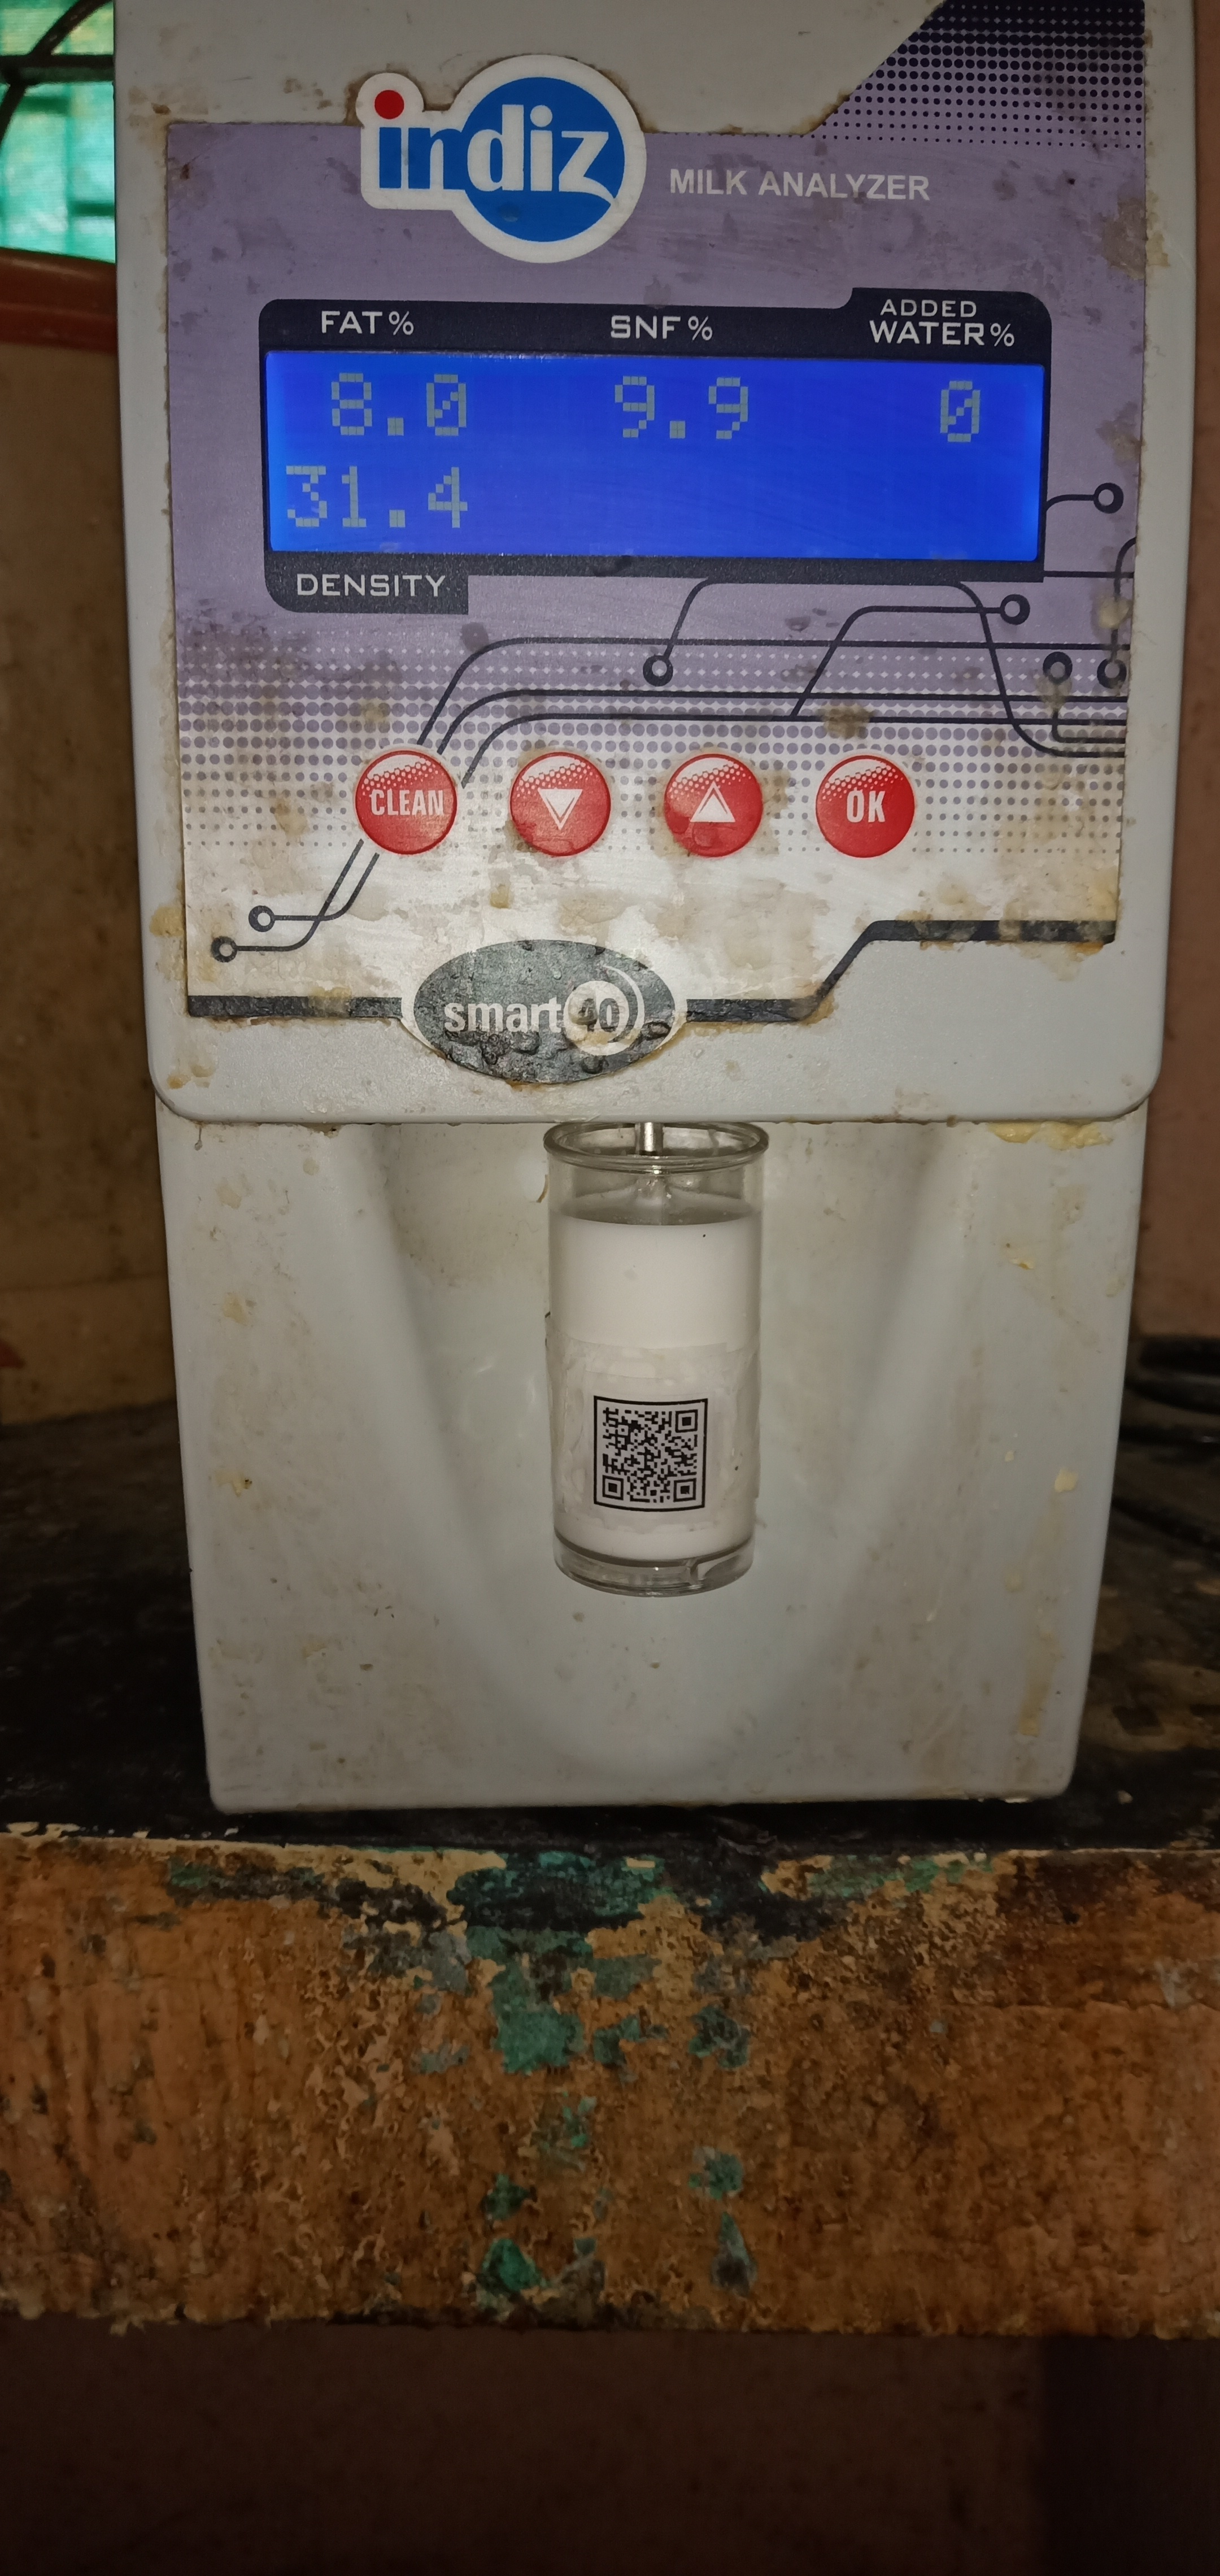lcd: (217, 258, 1100, 670)
qr: (588, 1385, 732, 1551)
